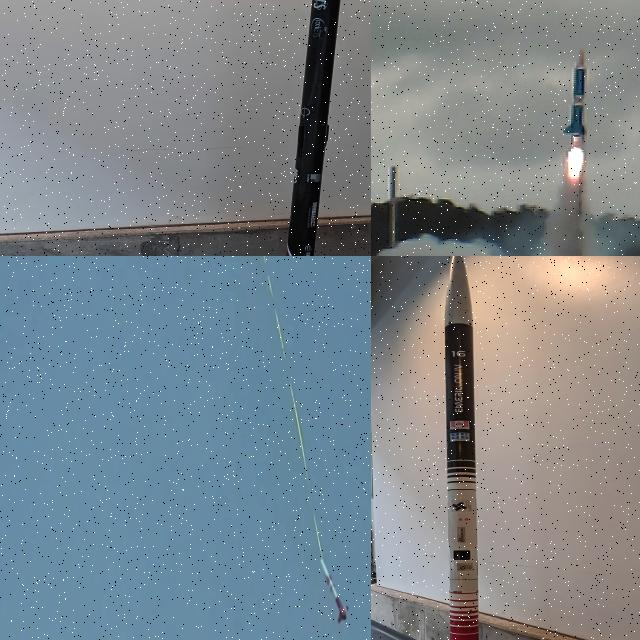Rocket: (286, 0, 341, 256), (444, 256, 479, 640), (562, 48, 590, 137), (320, 557, 349, 623)
